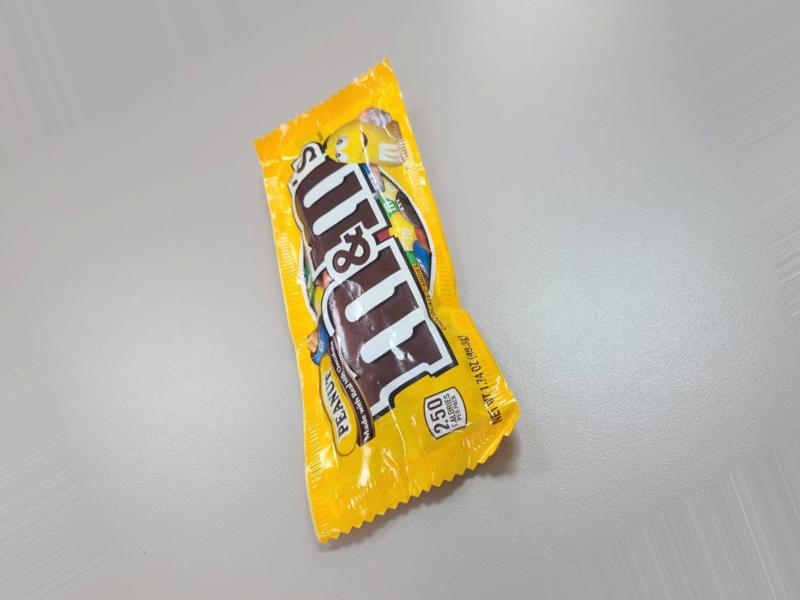m&m: (290, 91, 493, 556)
